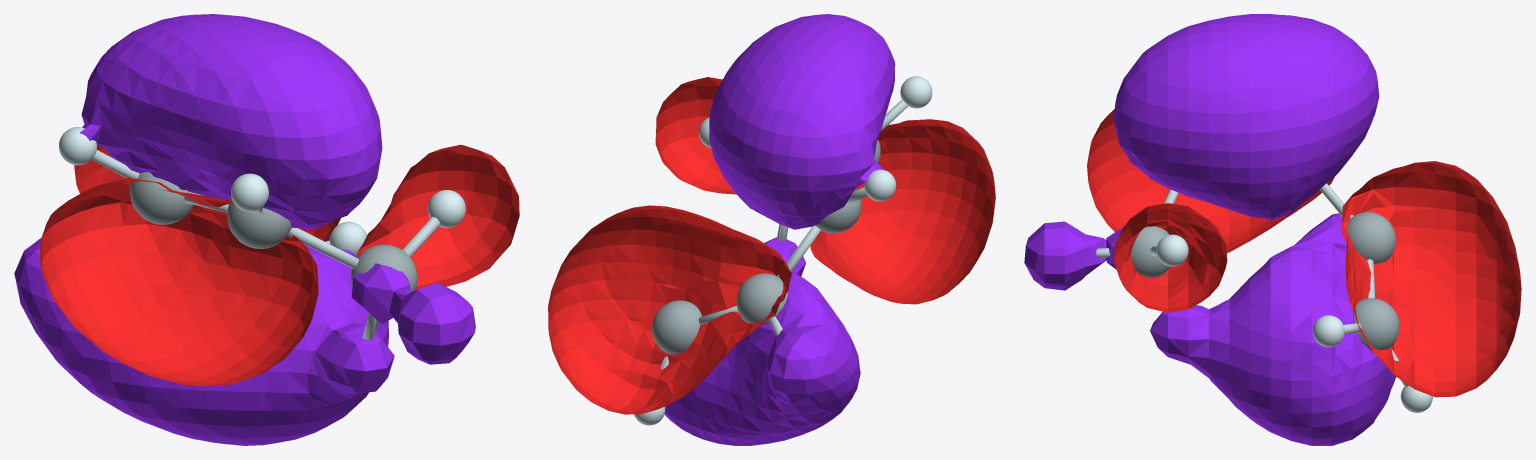
The picture shows the model from 3 angles, left to right: view 1: azimuth 30°, elevation 25°; view 2: azimuth 150°, elevation 25°; view 3: azimuth 270°, elevation 25°; orthographic projection. The views are drawn at different scales.
Visible parts, largest first — view 1: Renderer Node; view 2: Renderer Node; view 3: Renderer Node.
Part boxes in pixels (box(x1,y1,x2,y2)): Renderer Node: box(14, 14, 519, 445); Renderer Node: box(548, 14, 995, 445); Renderer Node: box(1024, 14, 1521, 445).
Bounding box in the file's own units: 4.91 × 5.23 × 6.15.
